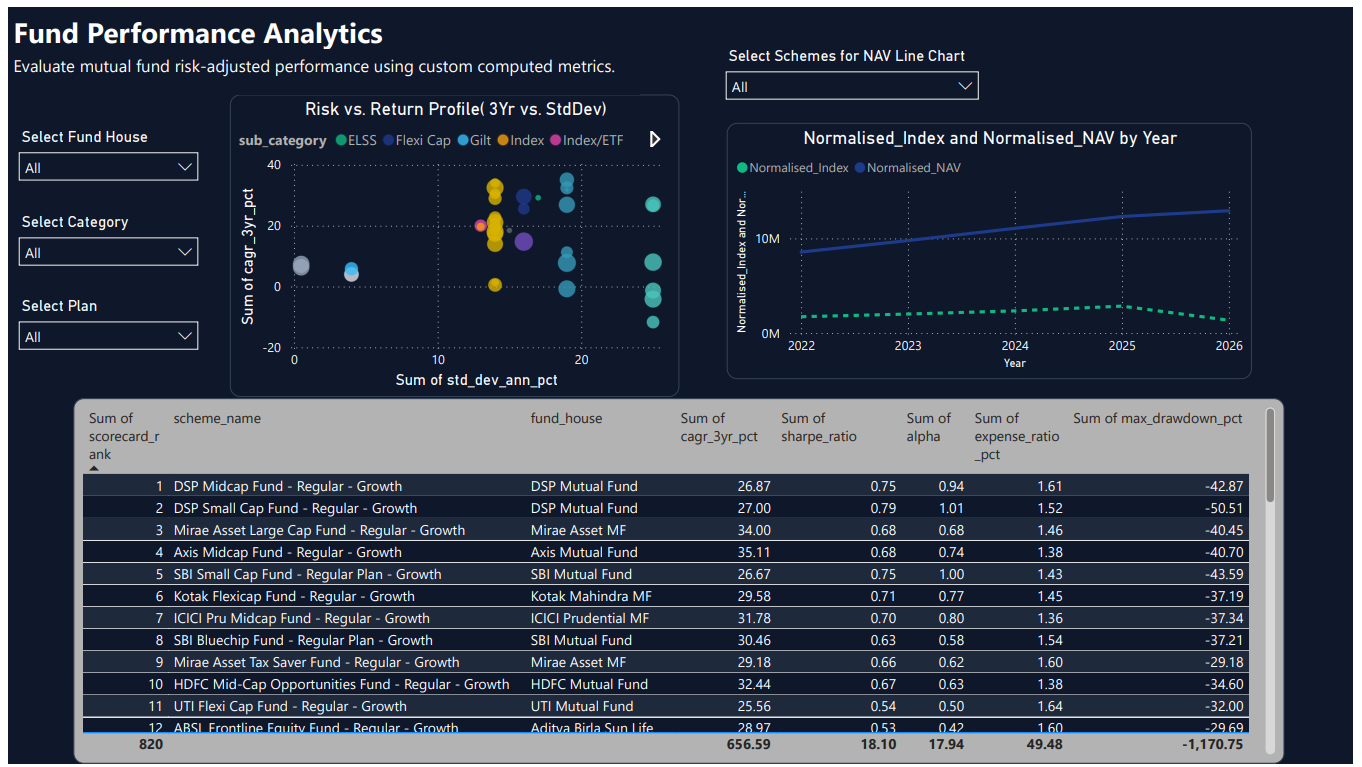

This screenshot's page, from the dashboard's own definition file:
{"tool":"powerbi","page":{"name":"Fund Performance","canvas":[1280,720],"ordinal":1},"visuals":[{"type":"slicer","fields":{"Values":["Dim_Fund.fund_house"]},"box":[0,110,191.4,82.9],"z":0},{"type":"slicer","fields":{"Values":["Dim_Fund.category"]},"box":[0,191.4,191.4,80],"z":1000},{"type":"slicer","fields":{"Values":["Dim_Fund.plan"]},"box":[0,271.4,191.4,82.9],"z":2000},{"type":"scatterChart","title":"Risk vs. Return Profile( 3Yr vs. StdDev)","fields":{"X":["Sum(Fact_Performance.std_dev_ann_pct)"],"Size":["Sum(Fact_Performance.aum_crore)"],"Y":["Sum(Fund_Scorecard.cagr_3yr_pct)"],"Series":["Fund_Scorecard.sub_category"],"Category":["Fund_Scorecard.scheme_name"]},"box":[211.4,82.9,427.1,288.6],"z":3000},{"type":"tableEx","fields":{"Values":["Sum(Fund_Scorecard.scorecard_rank)","Fund_Scorecard.scheme_name","Fund_Scorecard.fund_house","Sum(Fund_Scorecard.cagr_3yr_pct)","Sum(Fund_Scorecard.sharpe_ratio)","Sum(Fund_Scorecard.alpha)","Sum(Fund_Scorecard.expense_ratio_pct)","Sum(Fund_Scorecard.max_drawdown_pct)"]},"box":[61.7,371.7,1153.3,348.3],"z":4000},{"type":"slicer","fields":{"Values":["Dim_Fund.scheme_name"]},"box":[672.9,32.9,261.4,64.3],"z":5000},{"type":"lineChart","fields":{"Category":["Dim_Date.Date.Variation.Date Hierarchy.Year","Dim_Date.Date.Variation.Date Hierarchy.Quarter","Dim_Date.Date.Variation.Date Hierarchy.Month","Dim_Date.Date.Variation.Date Hierarchy.Day"],"Y":["Dim_Date.Normalised_Index","Dim_Date.Normalised_NAV"]},"box":[684.3,110,500,244.3],"z":6000},{"type":"textbox","box":[0,0,452.9,52.9],"z":6001},{"type":"textbox","box":[0,40,601.4,42.9],"z":6002}]}

Visuals, with their boxes in screenshot pixels (x1, y1, x2, y2), scaled from the page's 1280x720 canvas onto the 1362x767 screenshot:
slicer - Dim_Fund.fund_house: 0, 117, 204, 205
slicer - Dim_Fund.category: 0, 204, 204, 289
slicer - Dim_Fund.plan: 0, 289, 204, 377
"Risk vs. Return Profile( 3Yr vs. StdDev)" scatterChart: 225, 88, 679, 396
tableEx - Sum(Fund_Scorecard.scorecard_rank) x Fund_Scorecard.scheme_name: 66, 396, 1293, 766
slicer - Dim_Fund.scheme_name: 716, 35, 994, 104
lineChart - Dim_Date.Date.Variation.Date Hierarchy.Year x Dim_Date.Date.Variation.Date Hierarchy.Quarter: 728, 117, 1260, 377
textbox: 0, 0, 482, 56
textbox: 0, 43, 640, 88
